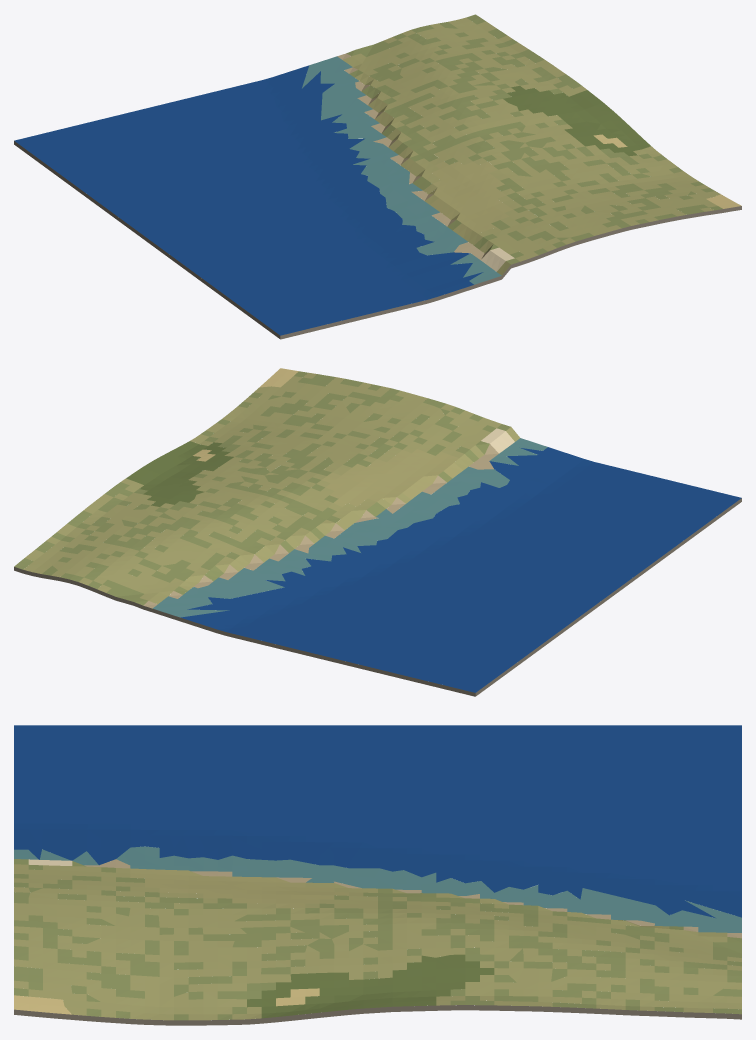
The model's file is parca_-4_-4-uzak.glb.
The picture shows the model from 3 angles, top to bottom: view 1: azimuth 30°, elevation 25°; view 2: azimuth 150°, elevation 25°; view 3: azimuth 270°, elevation 25°; orthographic projection. The views are drawn at different scales.
Parts seen in each view (by area): view 1: parca_-4_-4_arazi_uzak; view 2: parca_-4_-4_arazi_uzak; view 3: parca_-4_-4_arazi_uzak.
Boxes of the visible parts, x1,y1,x2,y2 form: parca_-4_-4_arazi_uzak: (14,14,741,339); parca_-4_-4_arazi_uzak: (14,368,741,696); parca_-4_-4_arazi_uzak: (14,725,741,1025).
Size of the model in its own units: 1000 by 57.87 by 1000.
